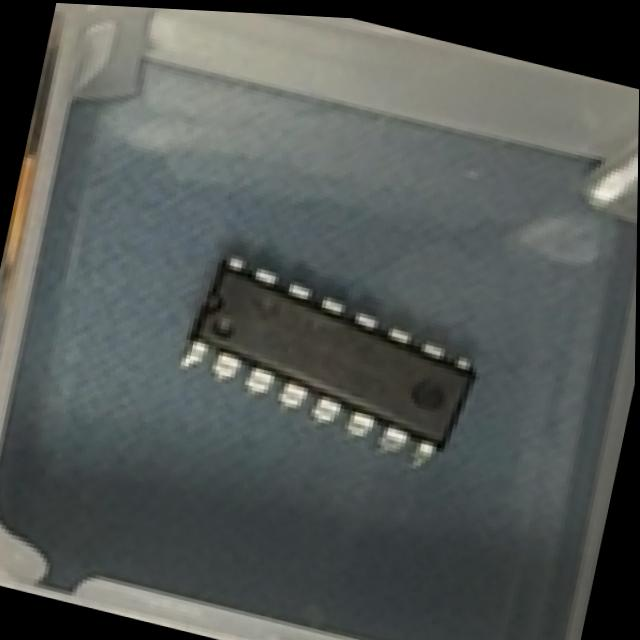IC: (165, 237, 494, 477)
